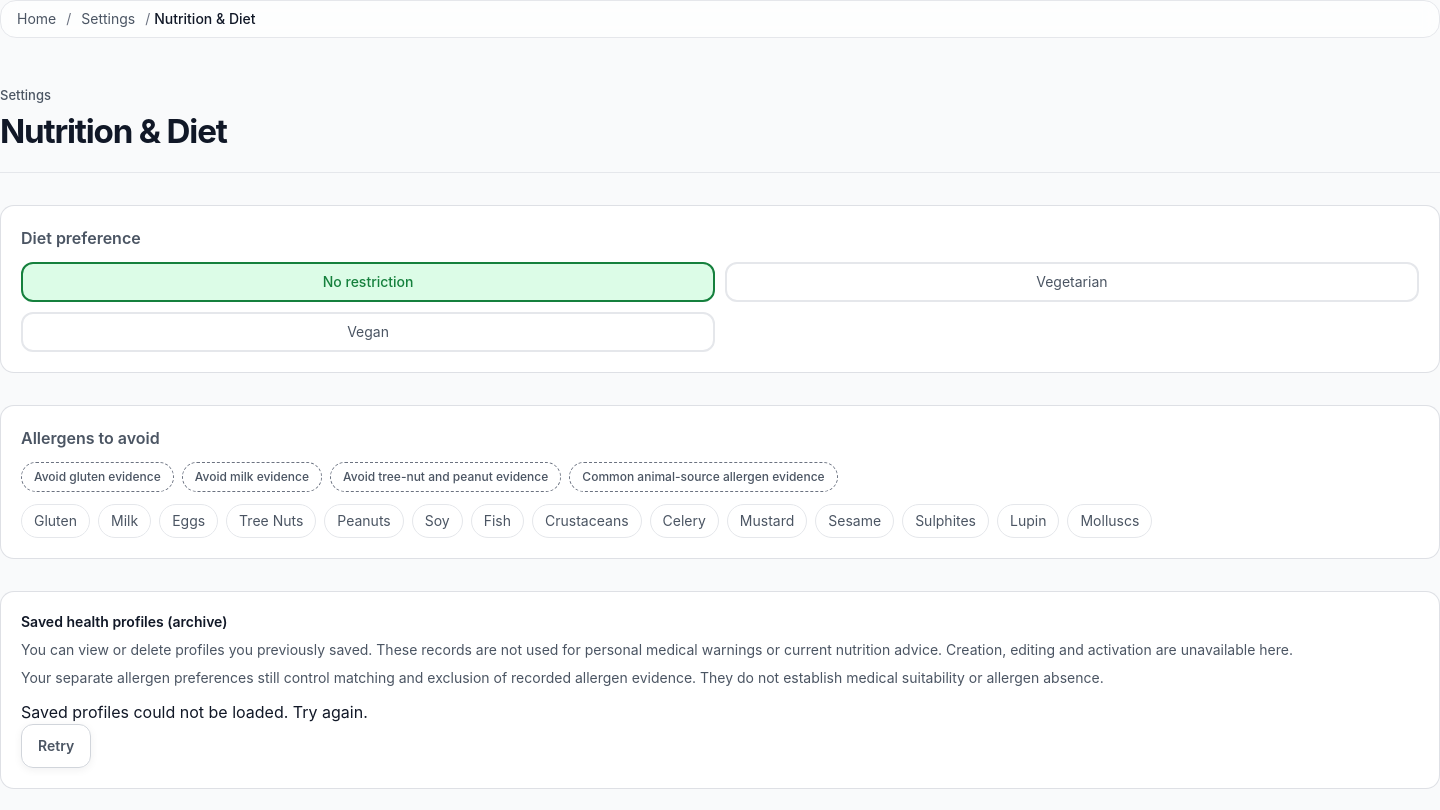
Test: NutritionSettingsPage › clicking the gluten-evidence preset selects gluten
Click the button "Avoid gluten evidence" at point(97, 476), box [21,462,174,492]
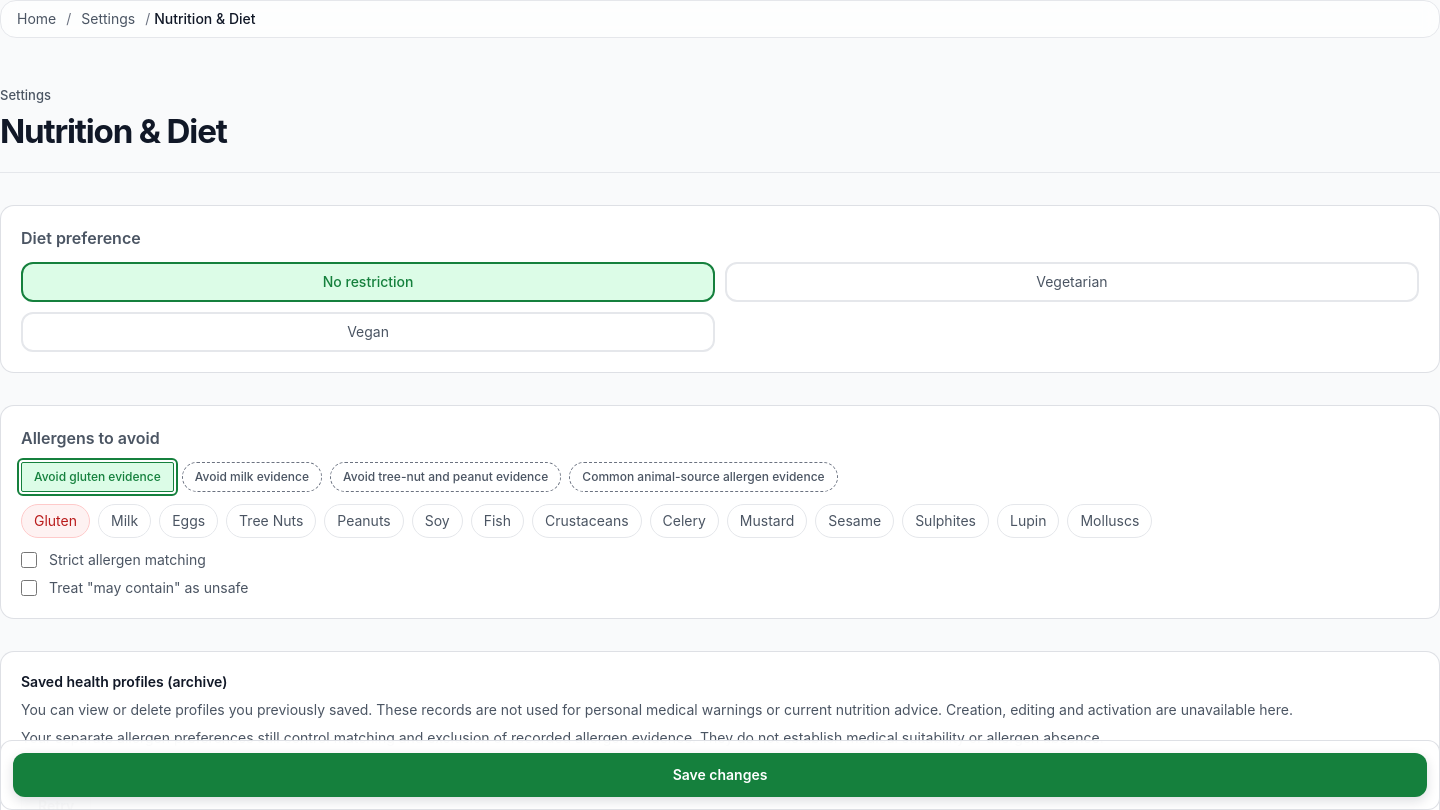
Expected: the button "Save changes" is shown, [13,753,1427,797]
